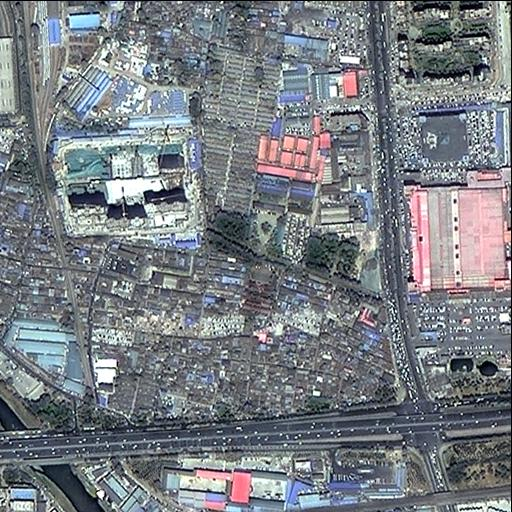school: (237, 263, 282, 322)
